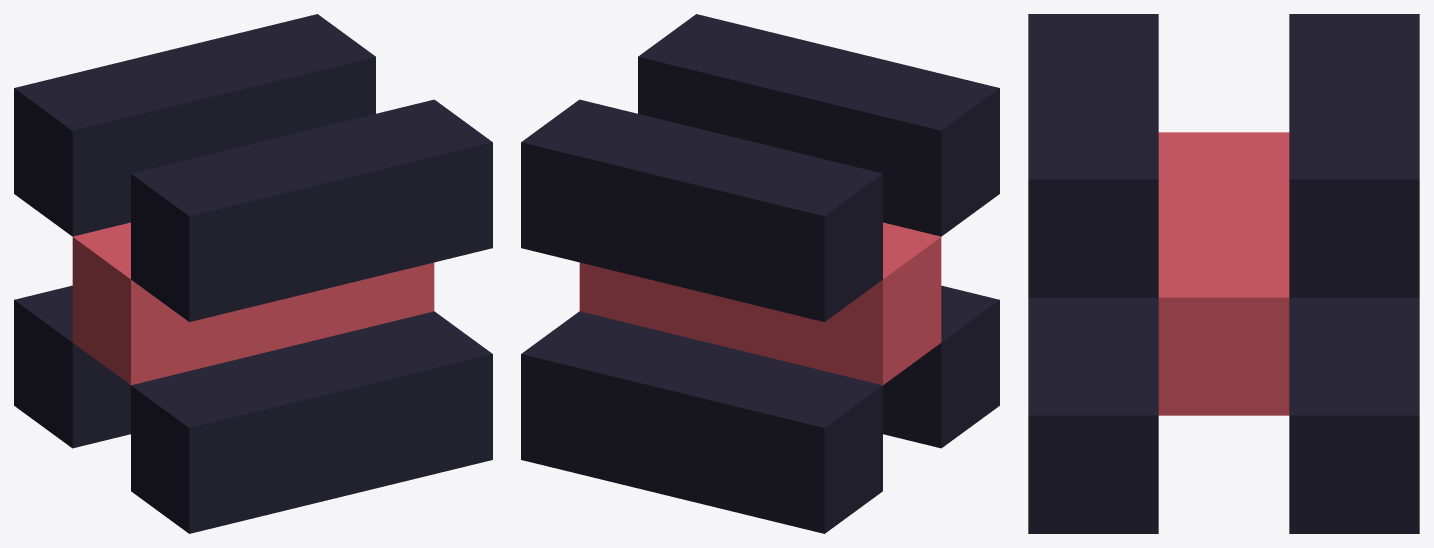
File: section.gltf
3 views of the same model, side by side, from view 1: azimuth 30°, elevation 25°; view 2: azimuth 150°, elevation 25°; view 3: azimuth 270°, elevation 25° (orthographic). The views are drawn at different scales.
Parts seen in each view (by area): view 1: Layer.1; view 2: Layer.1; view 3: Layer.1.
Boxes of the visible parts, bbox=[...] form: Layer.1: bbox=[14, 14, 492, 533]; Layer.1: bbox=[521, 14, 999, 533]; Layer.1: bbox=[1028, 14, 1419, 533].
Size of the model in its own units: 3 by 3 by 3.
Materials: 1 (1 with a texture image).
